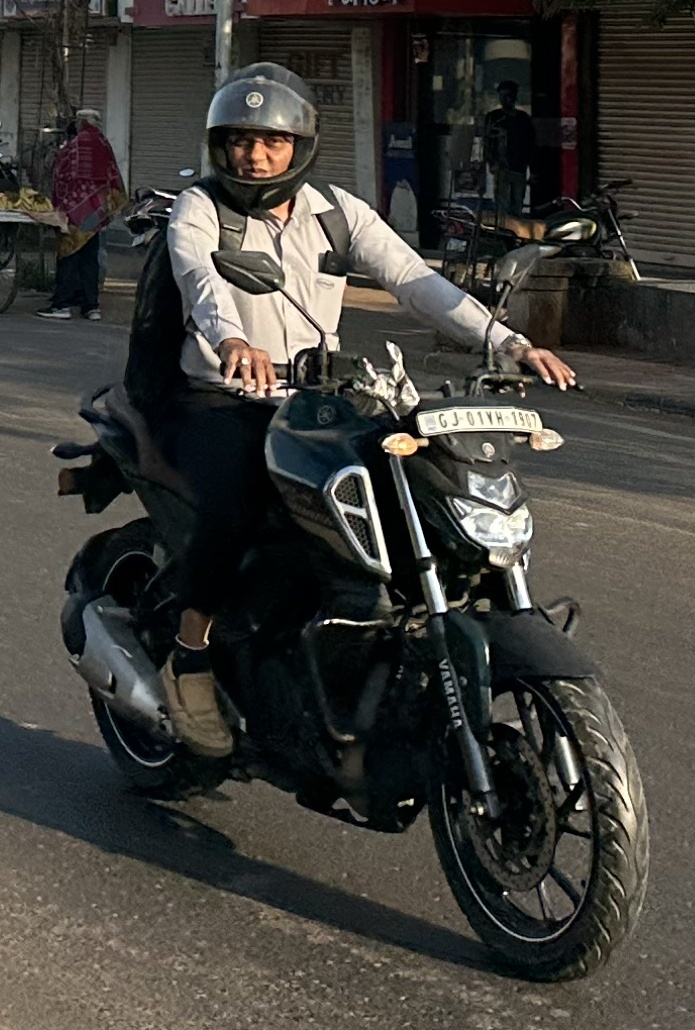BikeWithRider: (39, 51, 662, 993)
Helmet: (188, 55, 335, 215)
